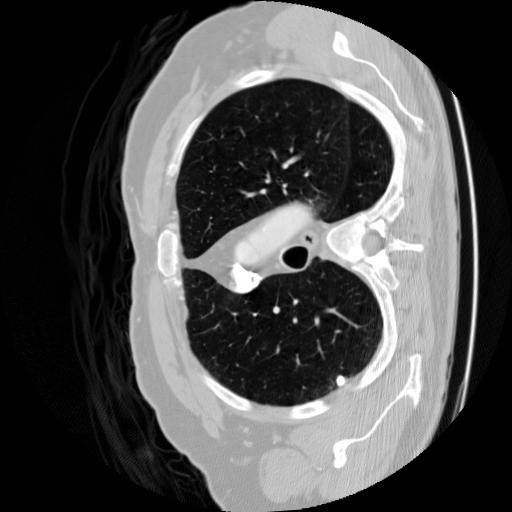nodule: (333, 373, 350, 390)
